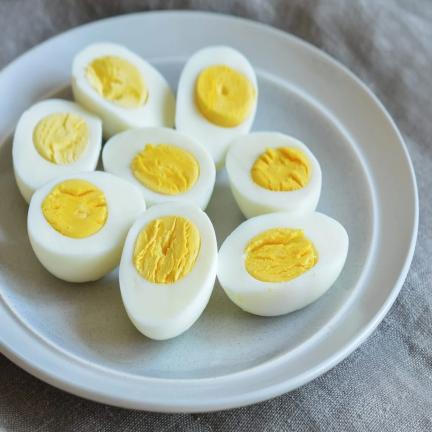egg: (217, 212, 348, 316), (119, 202, 217, 339), (27, 171, 145, 282), (175, 46, 258, 169), (72, 42, 175, 139), (102, 127, 216, 210), (13, 99, 102, 203), (225, 131, 321, 218)
